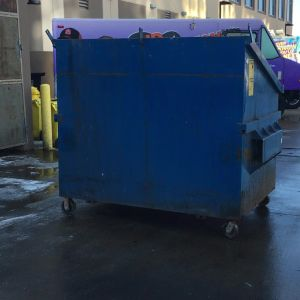Dumpster: (44, 27, 288, 243)
